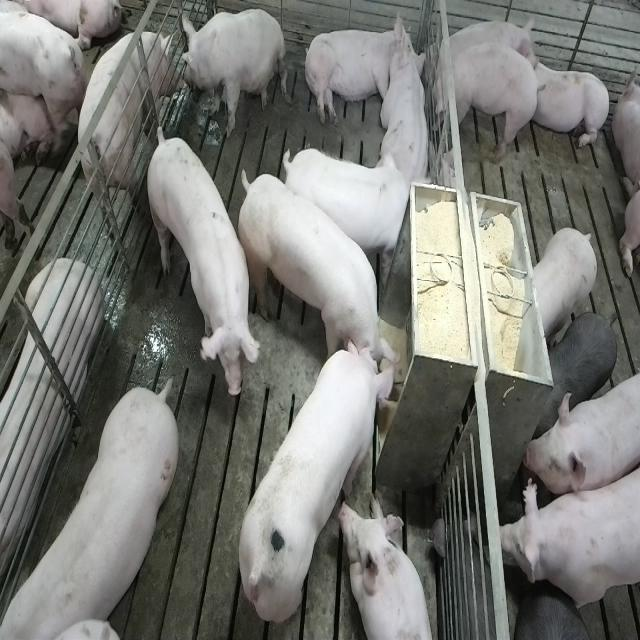Feeding: (236, 336, 400, 625), (231, 160, 400, 384)
Lateral_lying: (302, 11, 424, 128)
Sitting: (179, 8, 286, 138)
Standing: (5, 375, 184, 636), (148, 130, 258, 401), (499, 459, 638, 622), (77, 29, 179, 239), (281, 139, 410, 263), (523, 367, 637, 494), (430, 41, 540, 165), (0, 0, 79, 153), (533, 308, 620, 440), (531, 227, 598, 346), (514, 594, 601, 640)
Sternal_lying: (0, 262, 100, 590), (343, 494, 437, 640), (375, 37, 434, 206), (528, 53, 611, 153), (450, 18, 540, 76)
